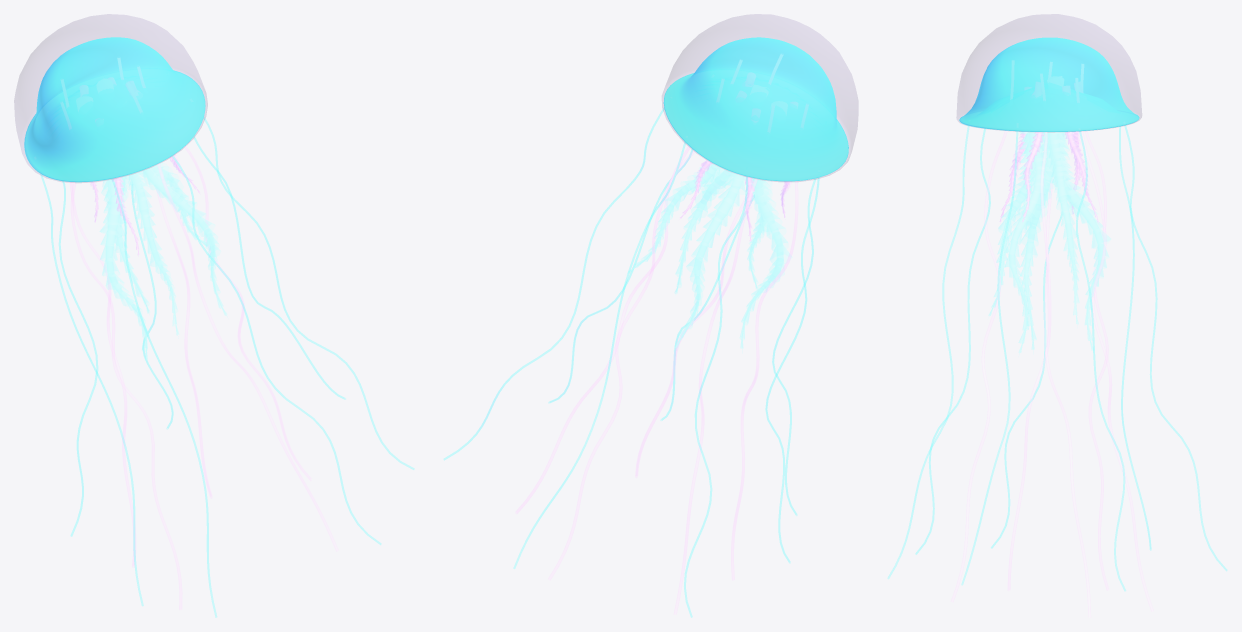
The model's file is jellyfish.glb.
3 views of the same model, side by side, from view 1: azimuth 30°, elevation 25°; view 2: azimuth 150°, elevation 25°; view 3: azimuth 270°, elevation 25° (orthographic). The views are drawn at different scales.
Parts seen in each view (by area): view 1: Cube, Cube.002, object 3, object 5, object 6, object 13, object 12, object 7, object 15, object 14, object 16, object 1 (+6 smaller); view 2: Cube, Cube.002, object 2, object 3, object 5, object 4, object 14, object 7, object 13, object 15, object 20, object 19 (+5 smaller); view 3: Cube, Cube.002, object 5, object 2, object 4, object 3, object 6, object 15, object 14, object 12, object 7, object 13 (+10 smaller).
Boxes of the visible parts, <box> form: Cube: <box>24,37,205,182</box>; Cube.002: <box>14,14,207,182</box>; object 3: <box>99,176,148,361</box>; object 5: <box>141,165,227,315</box>; object 6: <box>125,171,178,335</box>; object 13: <box>71,182,182,609</box>; object 12: <box>157,163,338,551</box>; object 7: <box>70,182,135,566</box>; object 15: <box>184,146,311,479</box>; object 14: <box>157,190,212,496</box>; object 16: <box>172,156,381,544</box>; object 1: <box>112,179,216,617</box>; Cube: <box>663,37,848,181</box>; Cube.002: <box>662,14,857,181</box>; object 2: <box>674,172,745,349</box>; object 3: <box>740,178,792,349</box>; object 5: <box>674,168,731,293</box>; object 4: <box>628,163,720,272</box>; object 14: <box>548,150,694,579</box>; object 7: <box>674,179,757,614</box>; object 13: <box>731,181,798,579</box>; object 15: <box>516,146,689,513</box>; object 20: <box>684,176,747,617</box>; object 19: <box>513,142,685,568</box>; Cube: <box>959,37,1139,131</box>; Cube.002: <box>957,14,1141,131</box>; object 5: <box>1004,131,1048,353</box>; object 2: <box>1048,132,1110,350</box>; object 4: <box>1042,132,1079,324</box>; object 3: <box>1020,134,1055,349</box>; object 6: <box>988,132,1034,315</box>; object 15: <box>1041,132,1090,617</box>; object 14: <box>1081,131,1153,611</box>; object 12: <box>951,131,1006,601</box>; object 7: <box>1085,131,1108,590</box>; object 13: <box>1008,181,1051,589</box>.
Size of what is drawn, in the model's own units: 4 by 6.15 by 3.47.
